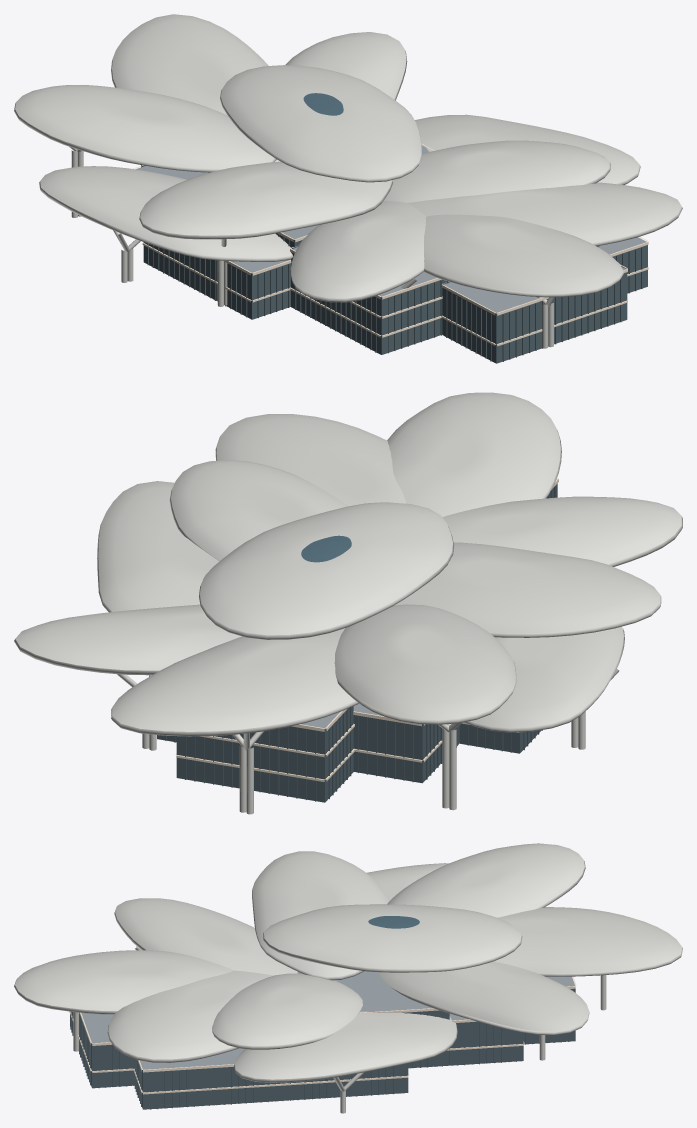
The model's file is tbilisi-public-service-hall.detail.glb.
3 views of the same model, one above another, from view 1: azimuth 30°, elevation 25°; view 2: azimuth 150°, elevation 25°; view 3: azimuth 270°, elevation 25° (orthographic). The views are drawn at different scales.
Parts seen in each view (by area): view 1: Public Service Hall; view 2: Public Service Hall; view 3: Public Service Hall.
Part boxes in pixels (left/top/right/bottom): Public Service Hall: left=14, top=14, right=682, bottom=363; Public Service Hall: left=14, top=392, right=682, bottom=814; Public Service Hall: left=14, top=843, right=682, bottom=1113.
Size of the model in its own units: 132 by 32.08 by 178.
